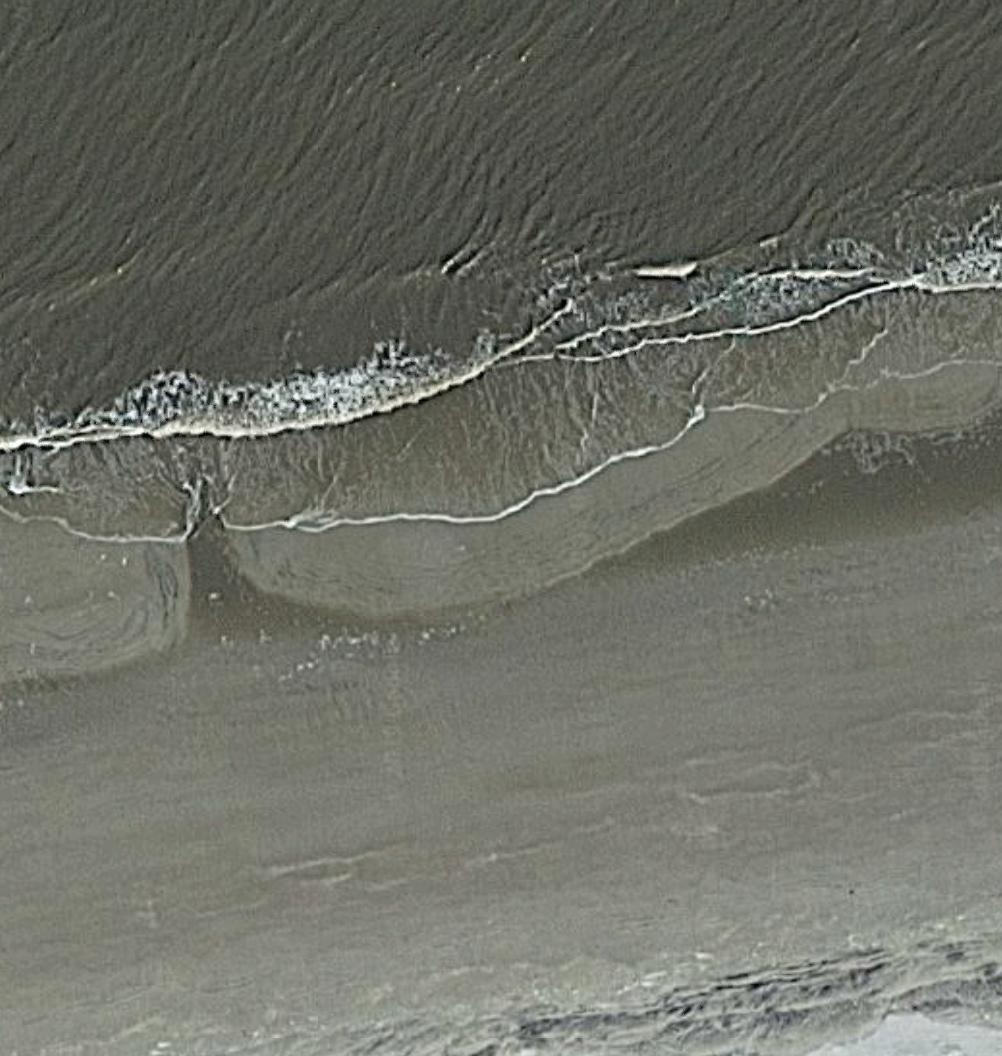rip_current: (119, 353, 259, 550)
